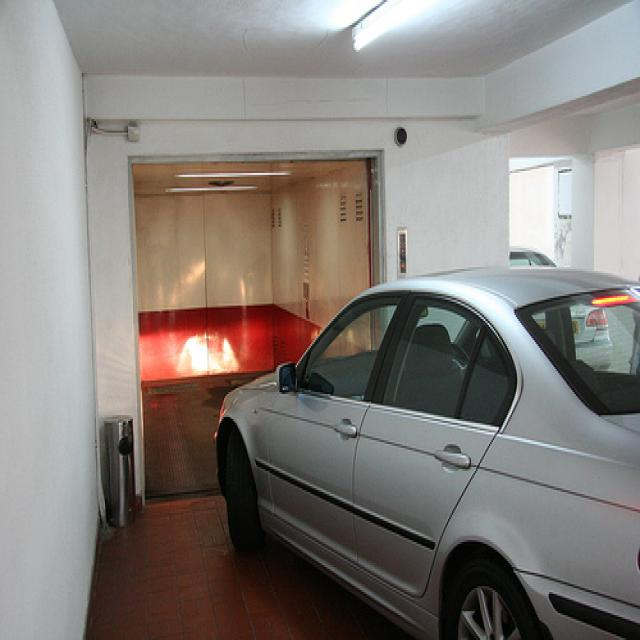Car: (214, 252, 640, 640)
